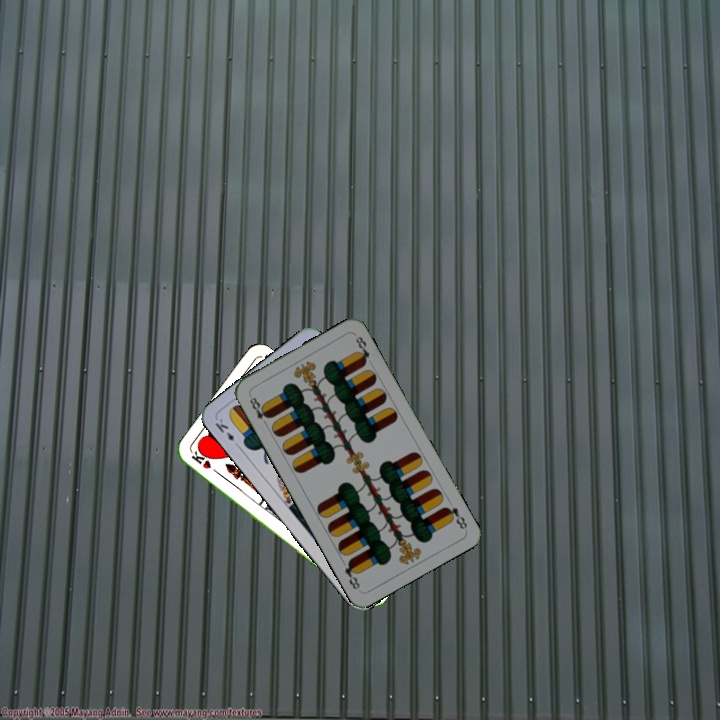E8: (245, 391, 273, 428), (440, 503, 470, 532)
EK: (211, 414, 243, 451)
HK: (187, 448, 224, 478)
